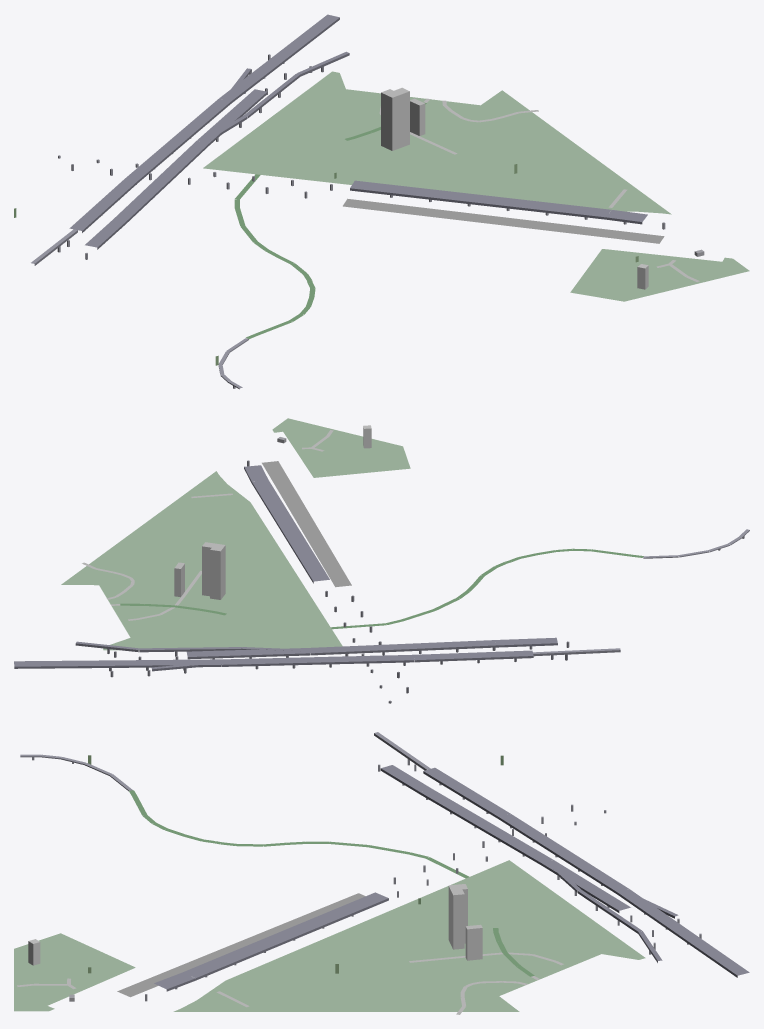
3 renders of one model, top to bottom at view 1: azimuth 30°, elevation 25°; view 2: azimuth 150°, elevation 25°; view 3: azimuth 270°, elevation 25°, orthographic. The views are drawn at different scales.
Size of the model in its own units: 470 by 44.79 by 535.
